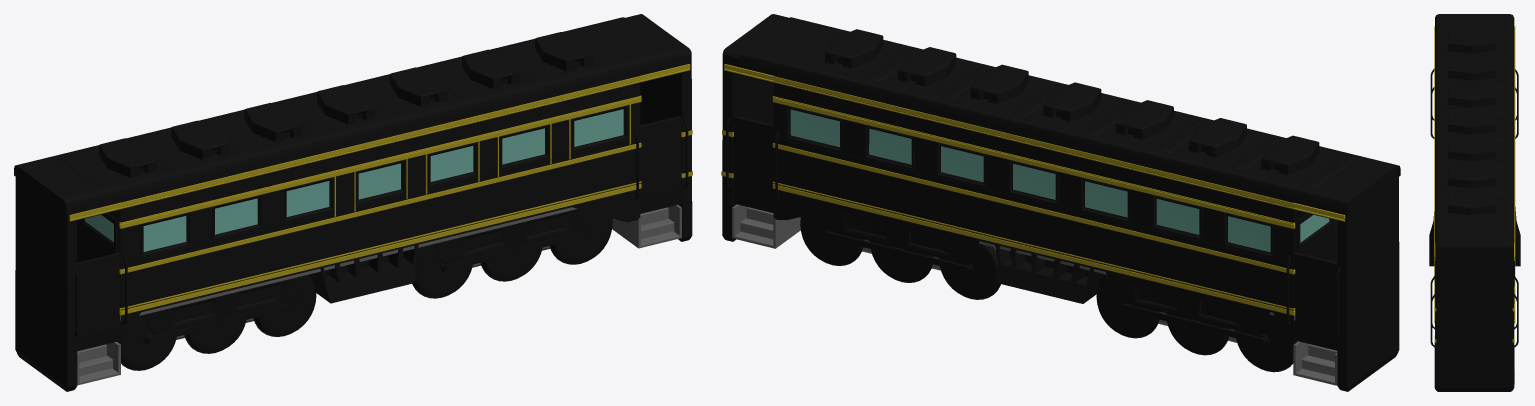
File: Exprress.fbx
3 views of the same model, side by side, from view 1: azimuth 30°, elevation 25°; view 2: azimuth 150°, elevation 25°; view 3: azimuth 270°, elevation 25° (orthographic). The views are drawn at different scales.
Parts seen in each view (by area): view 1: pCube90; view 2: pCube90; view 3: pCube90.
Boxes of the visible parts, <box> form: pCube90: <box>14,14,692,391</box>; pCube90: <box>721,14,1400,391</box>; pCube90: <box>1429,14,1520,391</box>.
Bounding box in the file's own units: 3098 × 978 × 513.
